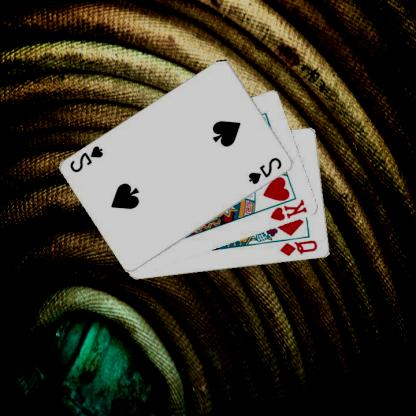2S: (70, 143, 106, 174), (248, 155, 285, 185)
KH: (270, 197, 310, 222)
QD: (280, 238, 320, 258)
